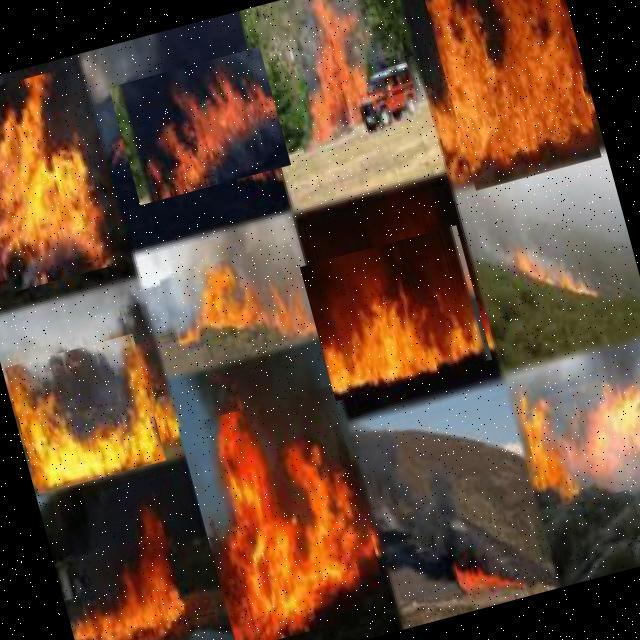fire: (178, 385, 390, 640), (418, 0, 601, 190), (299, 224, 492, 400), (108, 46, 290, 205), (0, 67, 116, 297), (4, 333, 166, 494), (265, 0, 424, 158), (158, 242, 320, 392), (45, 503, 193, 640), (519, 359, 640, 509), (500, 212, 623, 331), (451, 538, 527, 612)
